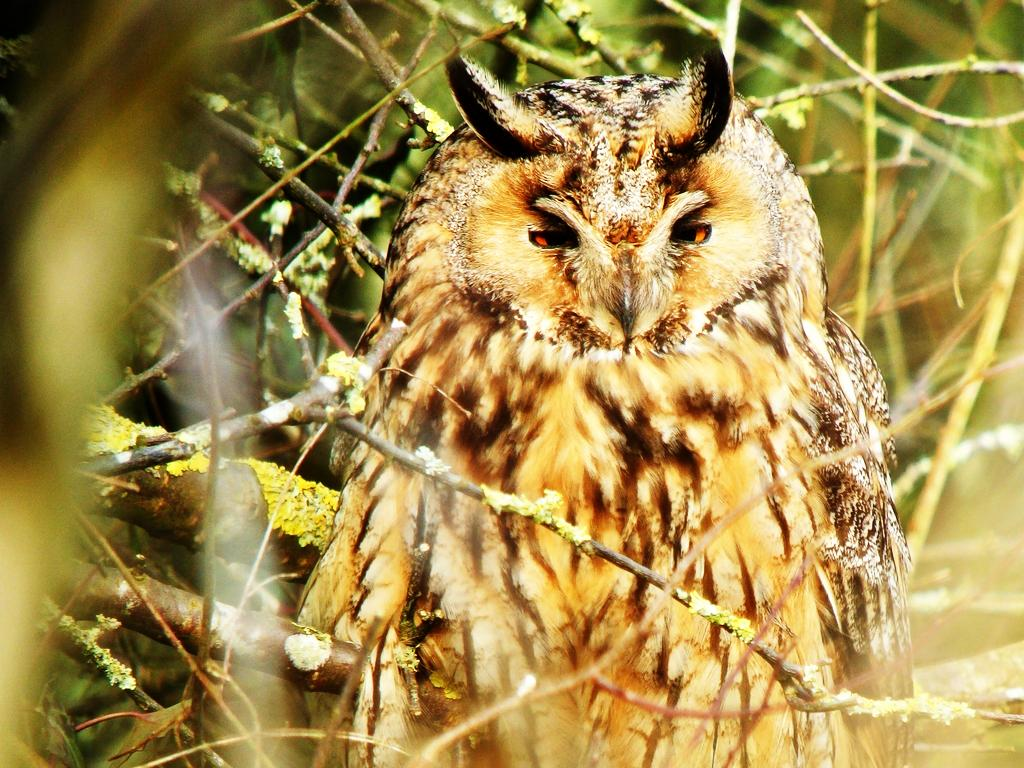Owl: (274, 34, 932, 758)
